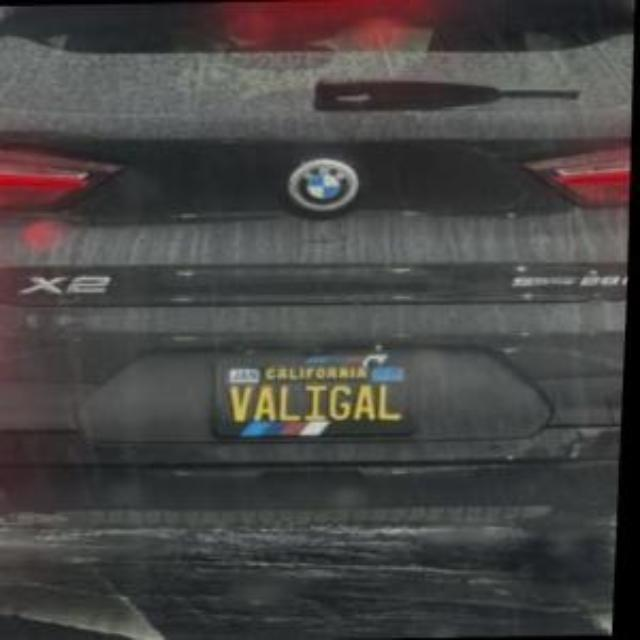License Plate: (212, 353, 423, 437)
